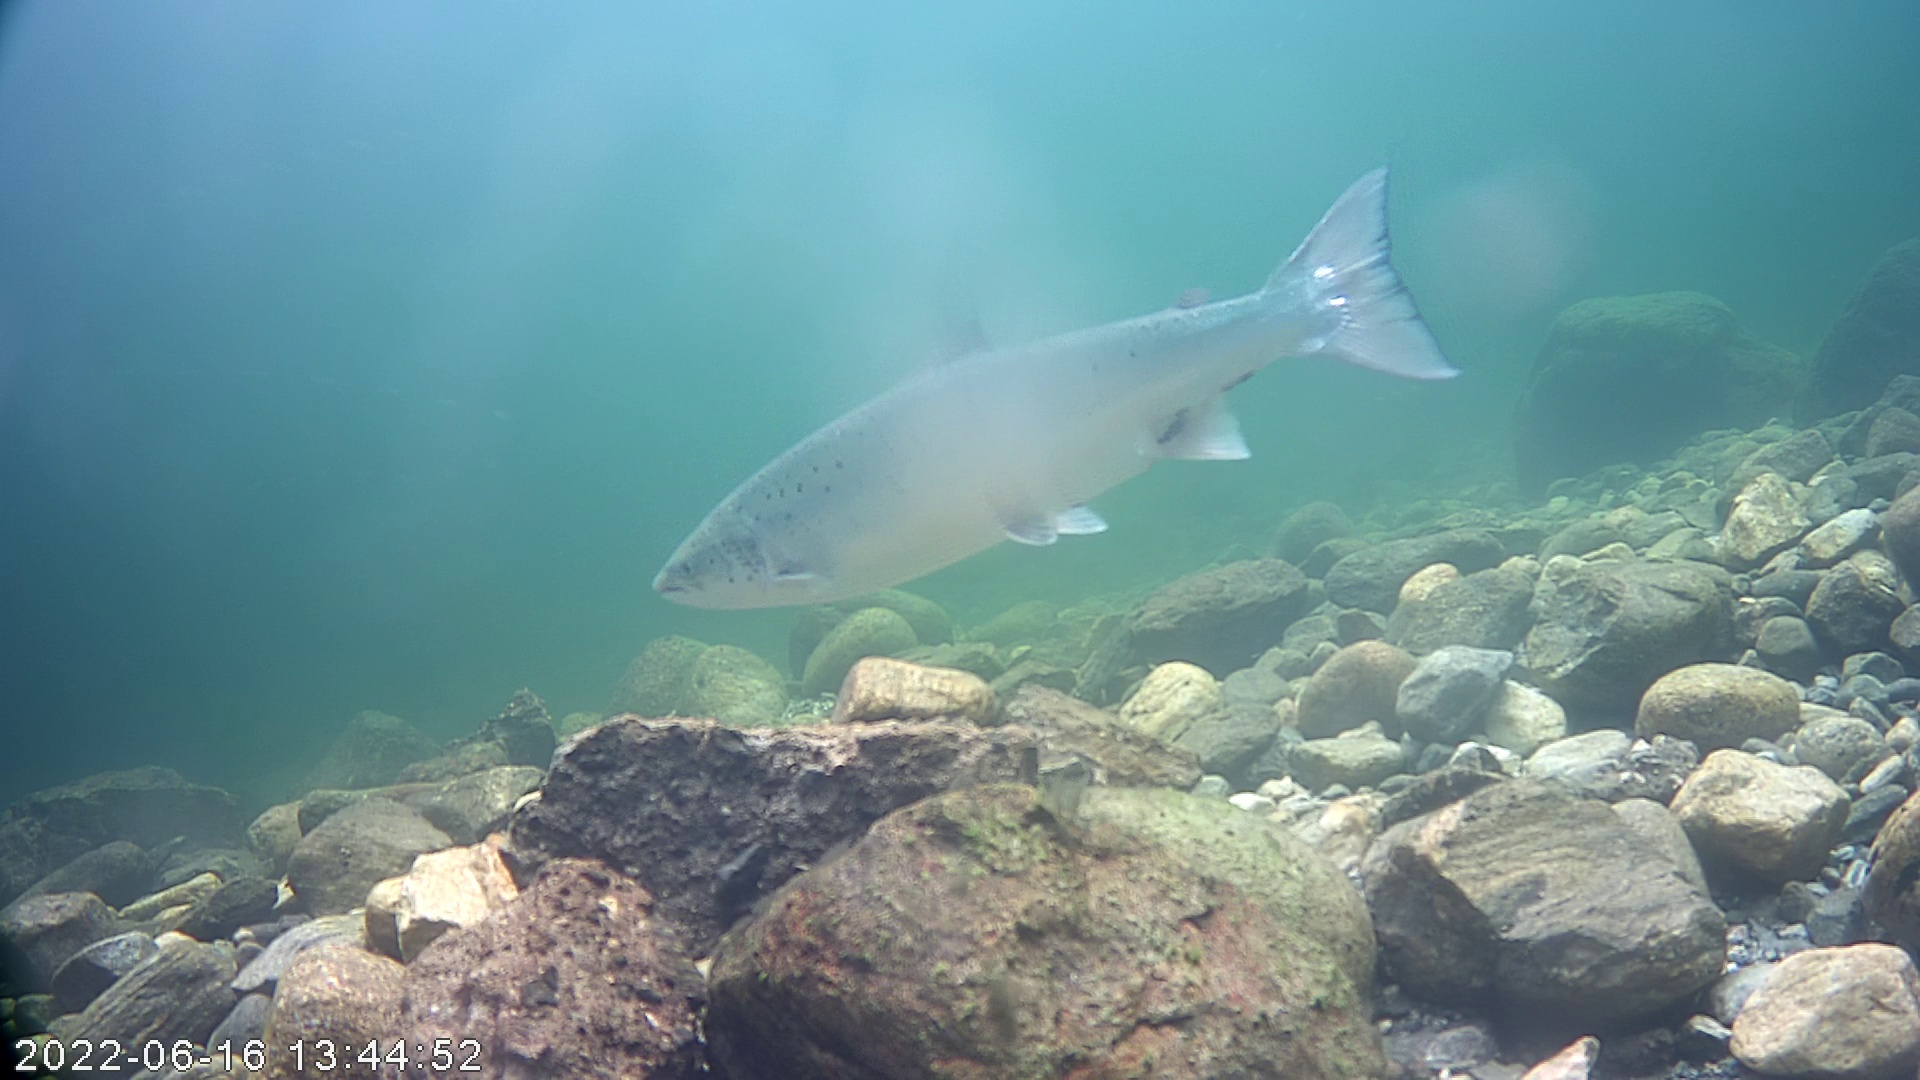salmon: (651, 161, 1462, 616)
